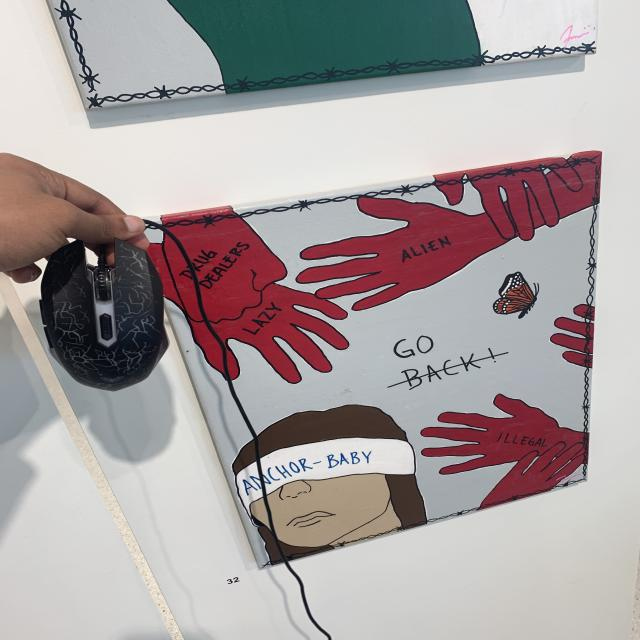Mouse: (40, 216, 193, 401)
